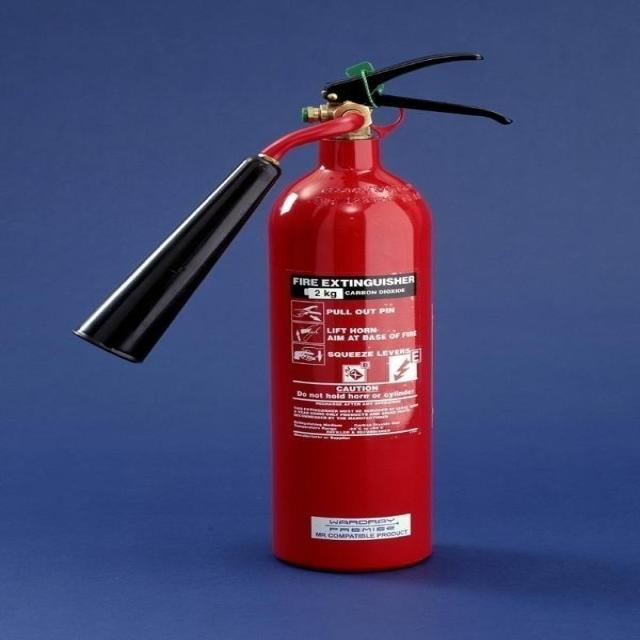fire_extinguisher: (67, 43, 523, 580)
